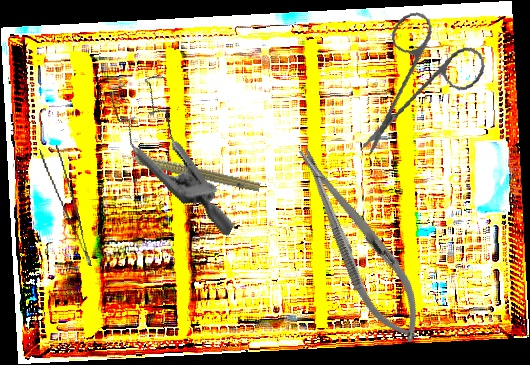Handpiece: (111, 143, 263, 195)
Iris Scissors: (340, 3, 496, 157)
Needle Holder: (280, 135, 438, 353)
Speculum: (75, 59, 278, 237)
Tissue Forceps: (39, 143, 92, 272)
